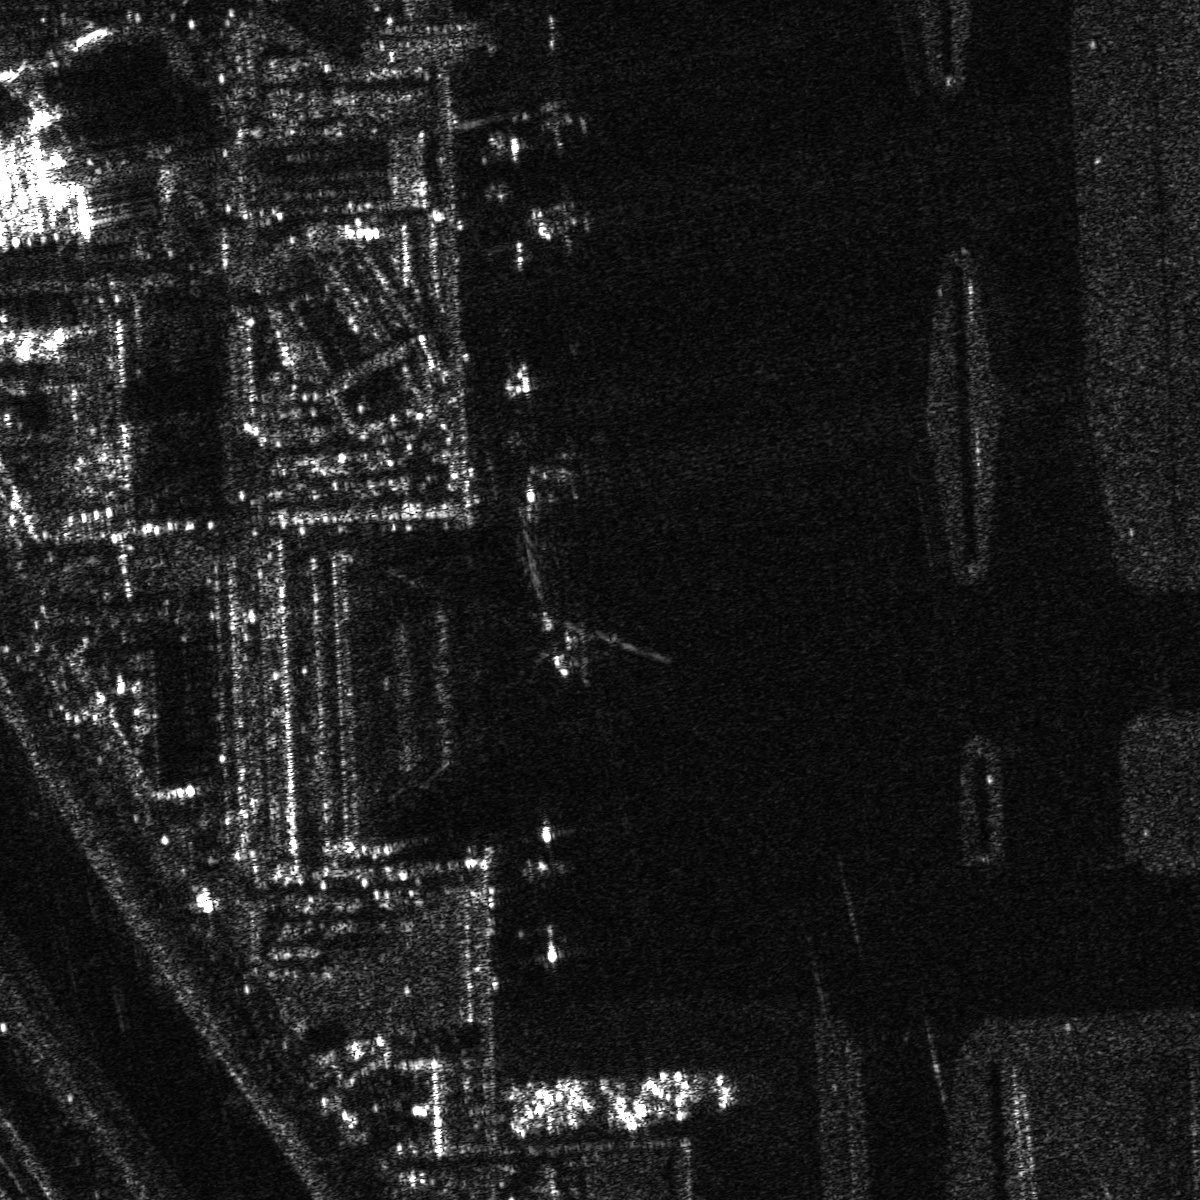A220: (534, 597, 618, 695), (502, 95, 598, 159), (522, 182, 600, 259)
other: (595, 1060, 664, 1142), (646, 1053, 713, 1125), (530, 1074, 588, 1140)
